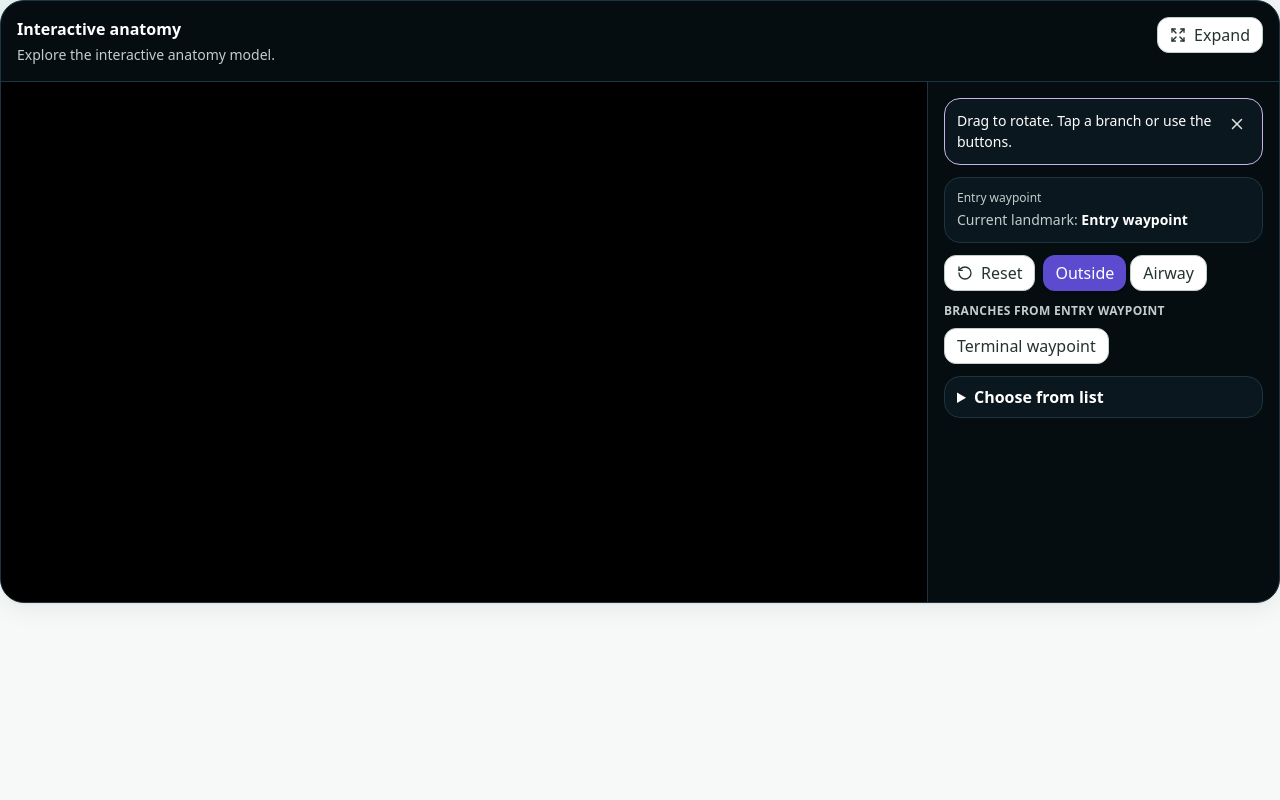
Test: AnatomyViewer › cuts waypoint motion when reduced motion is active
The image size is (1280, 800).
Step 1. Click the button "Terminal waypoint" → (1026, 346), box [944,328,1109,364]
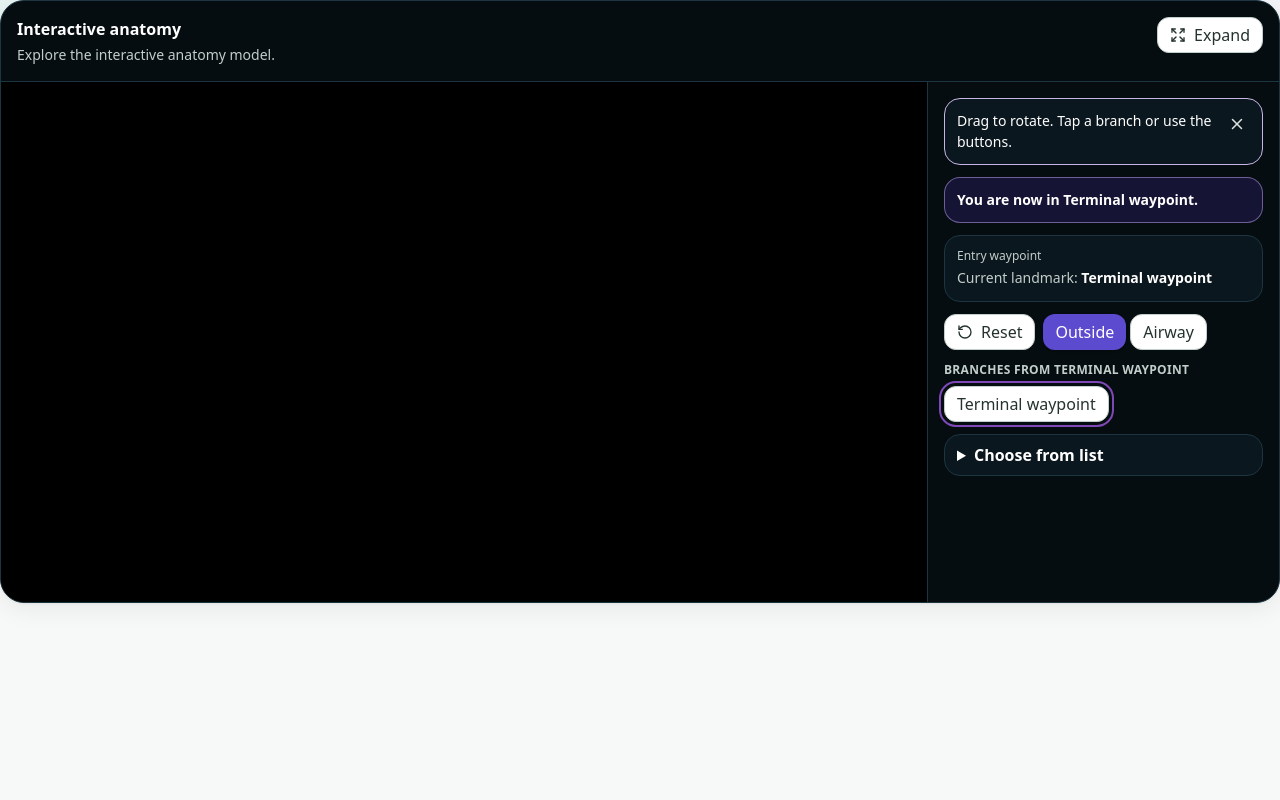
Now the message reads "You are now in Terminal waypoint.", box [957,190,1198,209]
